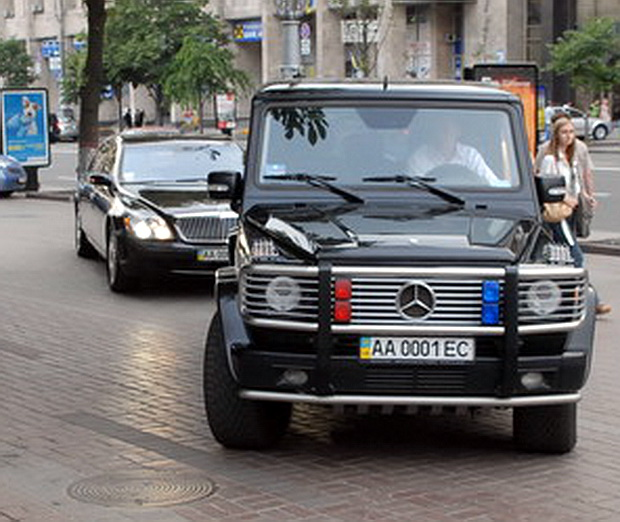car: (202, 81, 597, 458)
plate: (360, 336, 476, 360)
